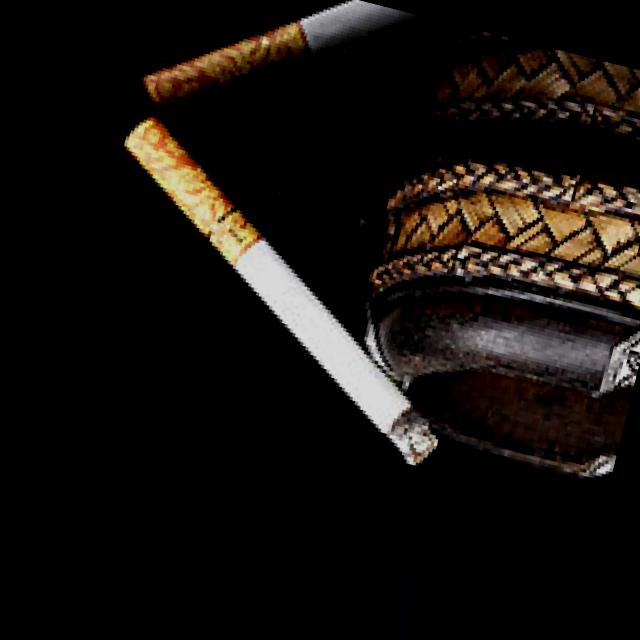cigarette: (66, 113, 497, 470)
